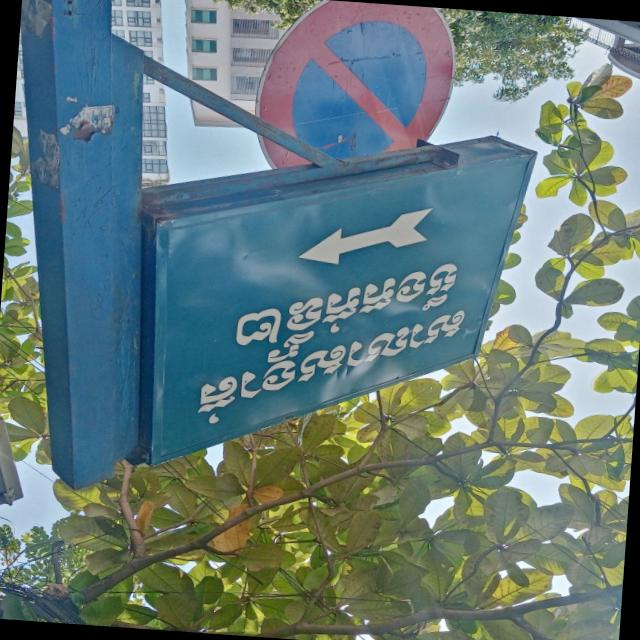Yolov11kh: (149, 247, 497, 379), (177, 304, 485, 441)
